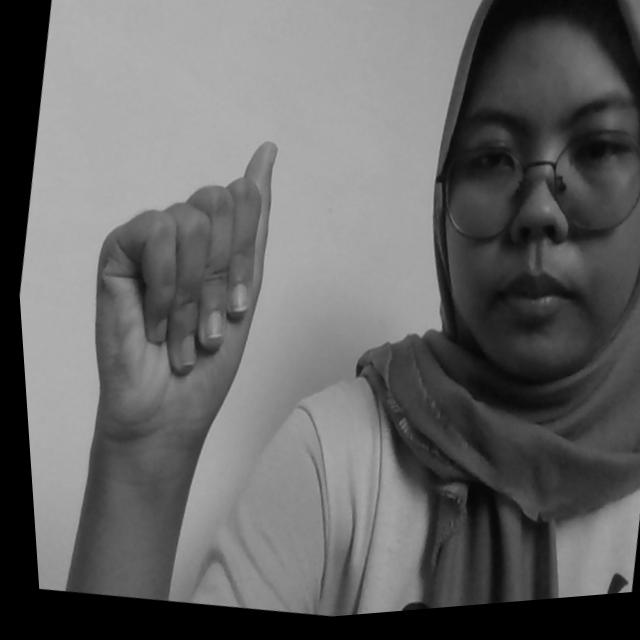A: (60, 117, 294, 450)
